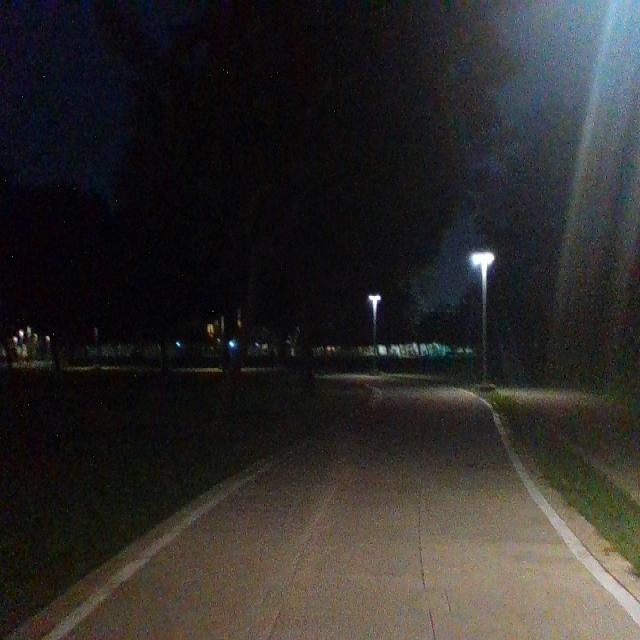lane: (67, 379, 639, 638)
